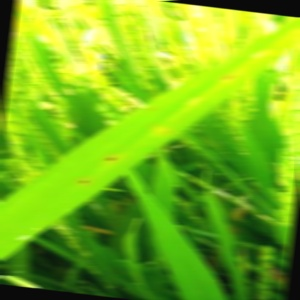Bacterial_Leaf_Blight: (221, 70, 236, 82), (105, 152, 119, 164), (77, 175, 91, 187), (161, 126, 174, 137), (145, 104, 158, 115)
